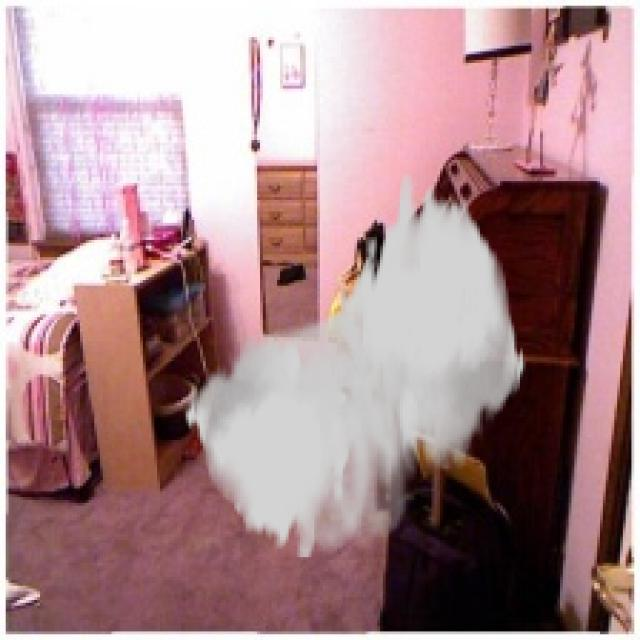smoke: (183, 174, 526, 560)
